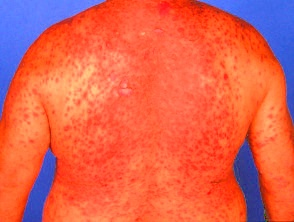SJS-TEN: (0, 0, 265, 222)
